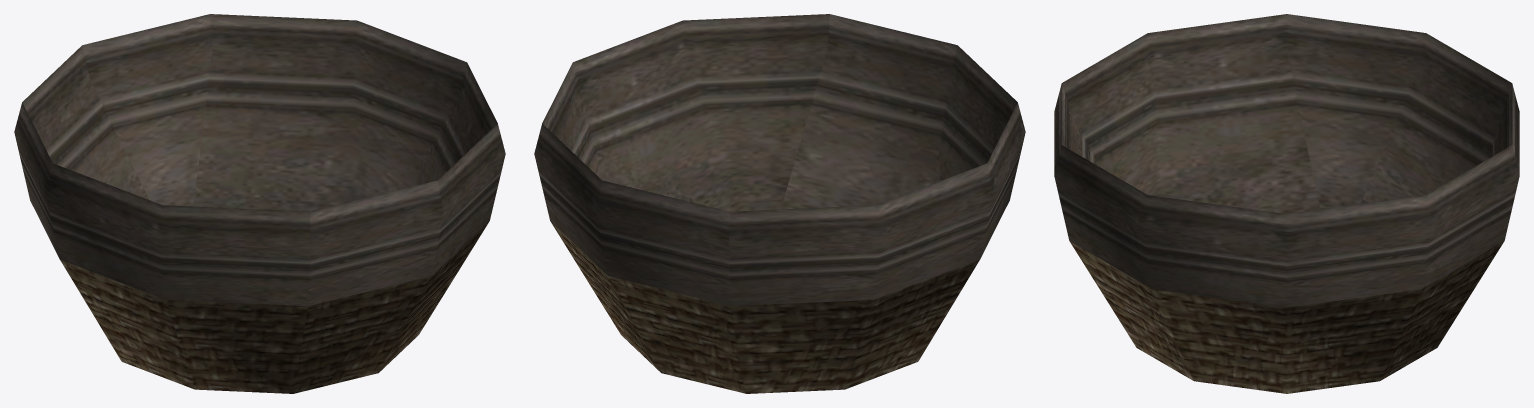
File: edb_con_tato_bowl_empty_s03_l1.fbx
The picture shows the model from 3 angles, left to right: view 1: azimuth 30°, elevation 25°; view 2: azimuth 150°, elevation 25°; view 3: azimuth 270°, elevation 25°; orthographic projection.
Visible parts, largest first — view 1: mesh_node; view 2: mesh_node; view 3: mesh_node.
Boxes of the visible parts, x1,y1,x2,y2 form: mesh_node: (14,14,505,393); mesh_node: (534,14,1025,393); mesh_node: (1054,14,1519,393).
Bounding box in the file's own units: 0.6392 × 0.307 × 0.6079.
